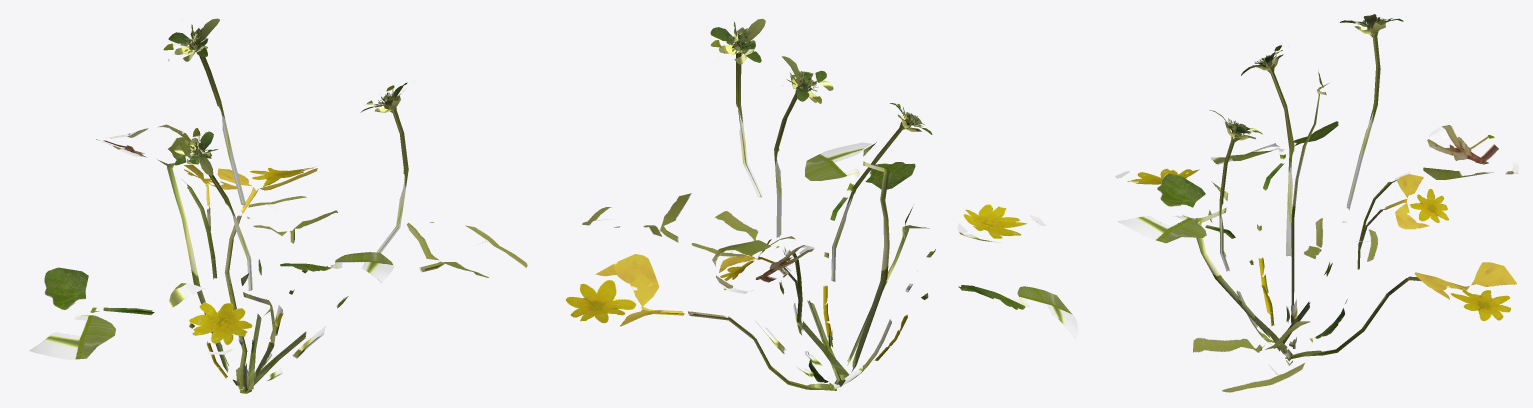
File: flower.obj
The picture shows the model from 3 angles, left to right: view 1: azimuth 30°, elevation 25°; view 2: azimuth 150°, elevation 25°; view 3: azimuth 270°, elevation 25°; orthographic projection. The views are drawn at different scales.
Visible parts, largest first — view 1: flower; view 2: flower; view 3: flower.
Boxes of the visible parts, bbox=[...] form: flower: bbox=[29, 18, 527, 393]; flower: bbox=[566, 18, 1078, 391]; flower: bbox=[1115, 14, 1518, 392].
Bounding box in the file's own units: 1.46 × 1 × 1.06.
Materials: 1 (1 with a texture image).
